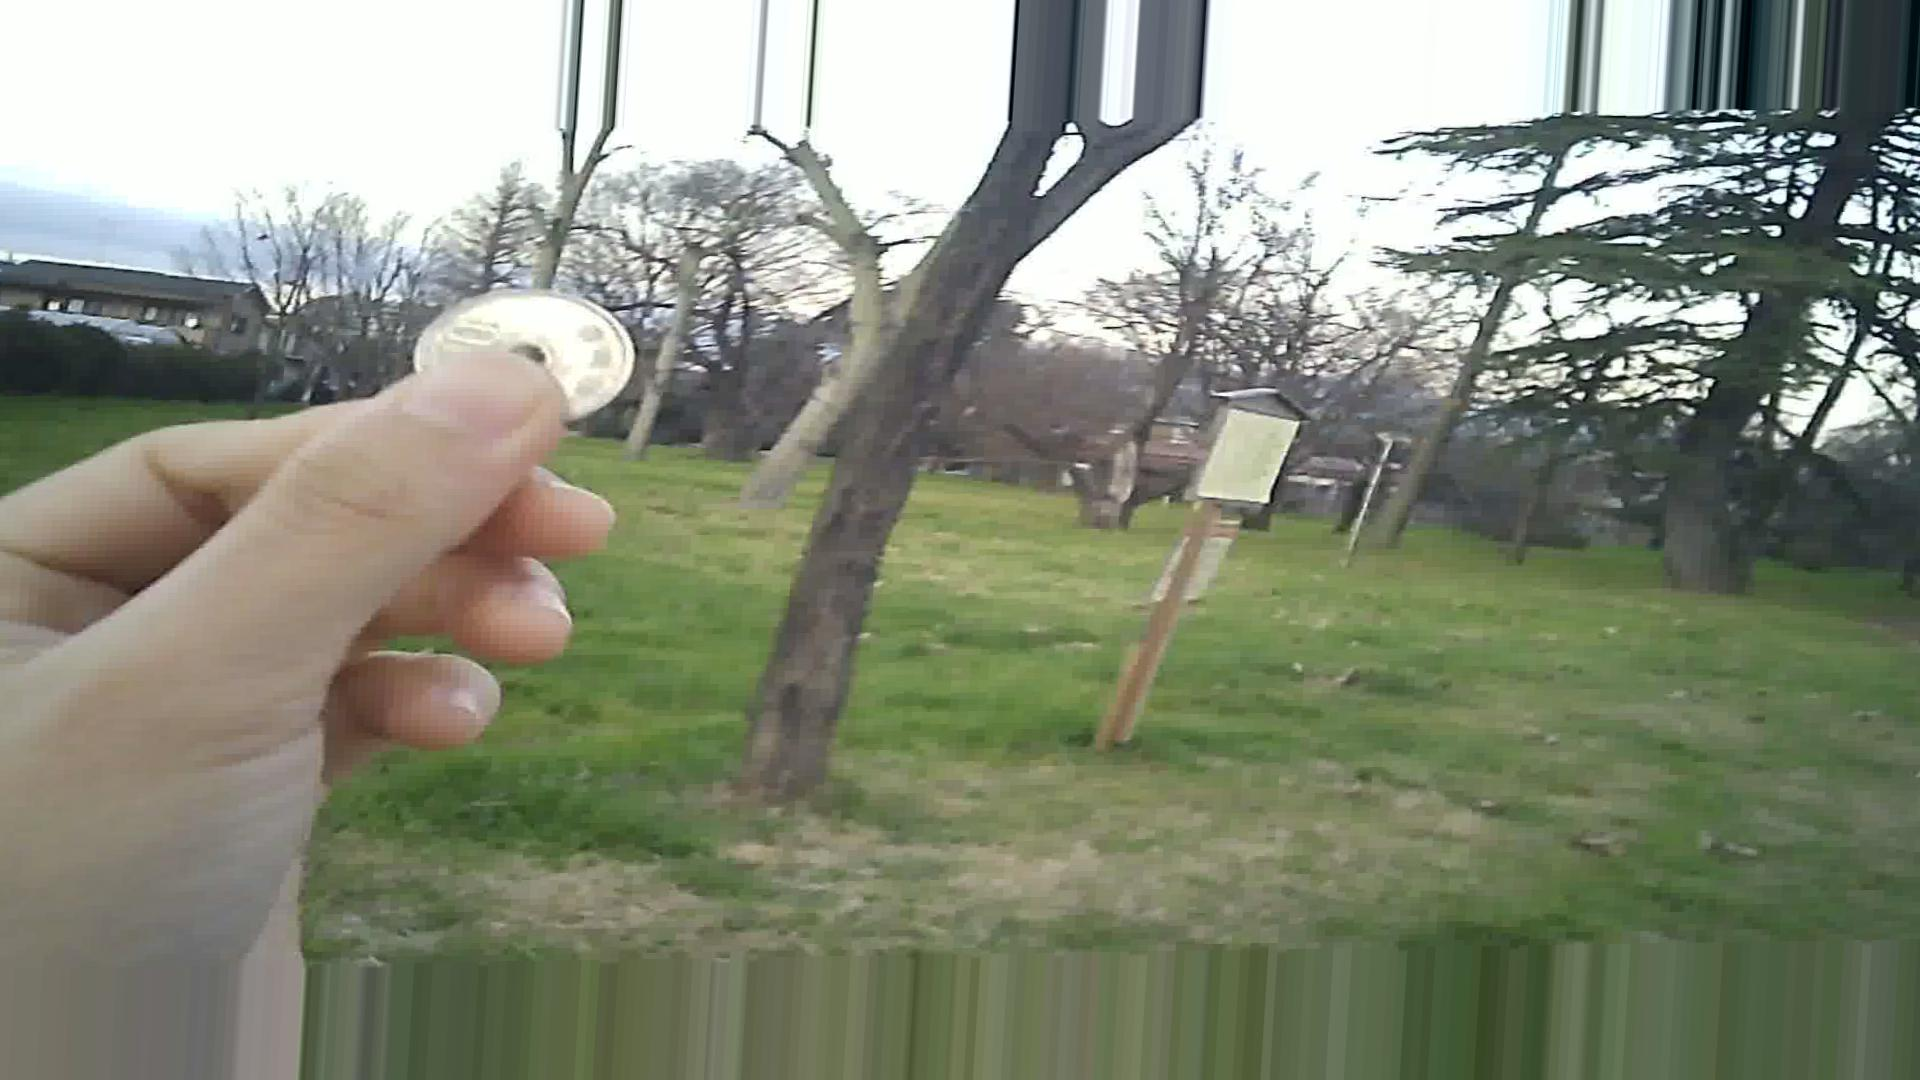50 Yen: (404, 287, 617, 421)
